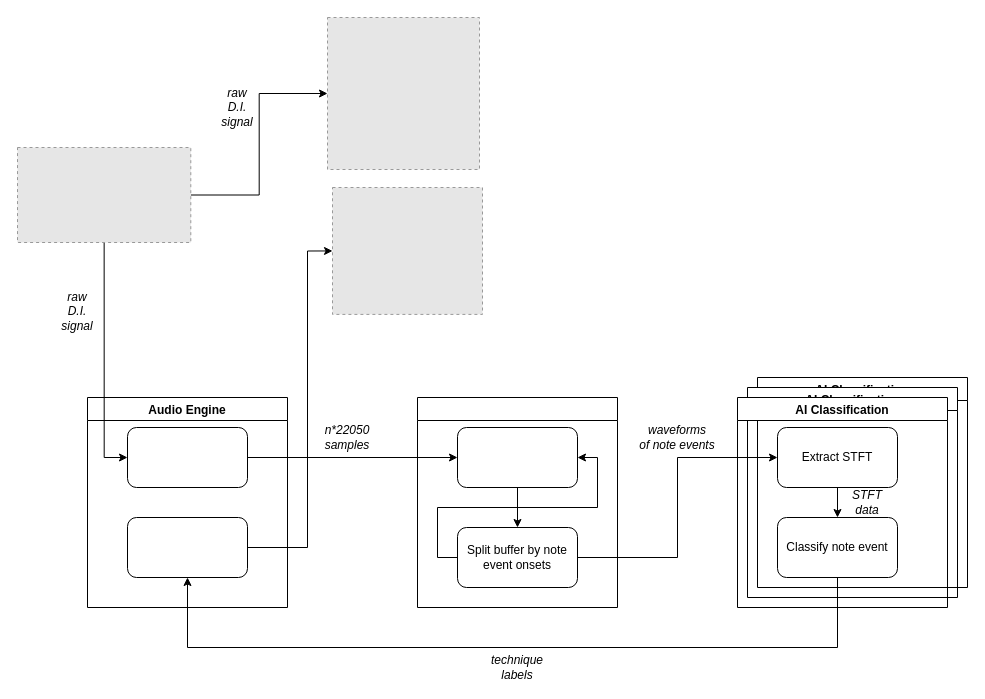
The diagram is 985 pixels wide and 699 high, and some of its shapes have lost their labels. Grey dashed boxes stand in for pictures. Each missing label, with the box of its shape:
AI improv logic and synthesis: (126, 516, 248, 578)
Combine leftover from last buffer with new buffer: (456, 426, 578, 488)
Data Preparation: (416, 396, 618, 608)
n second input buffer: (126, 426, 248, 488)
